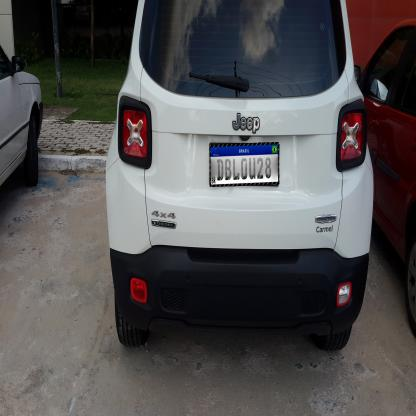PlacaM: (209, 142, 280, 187)
